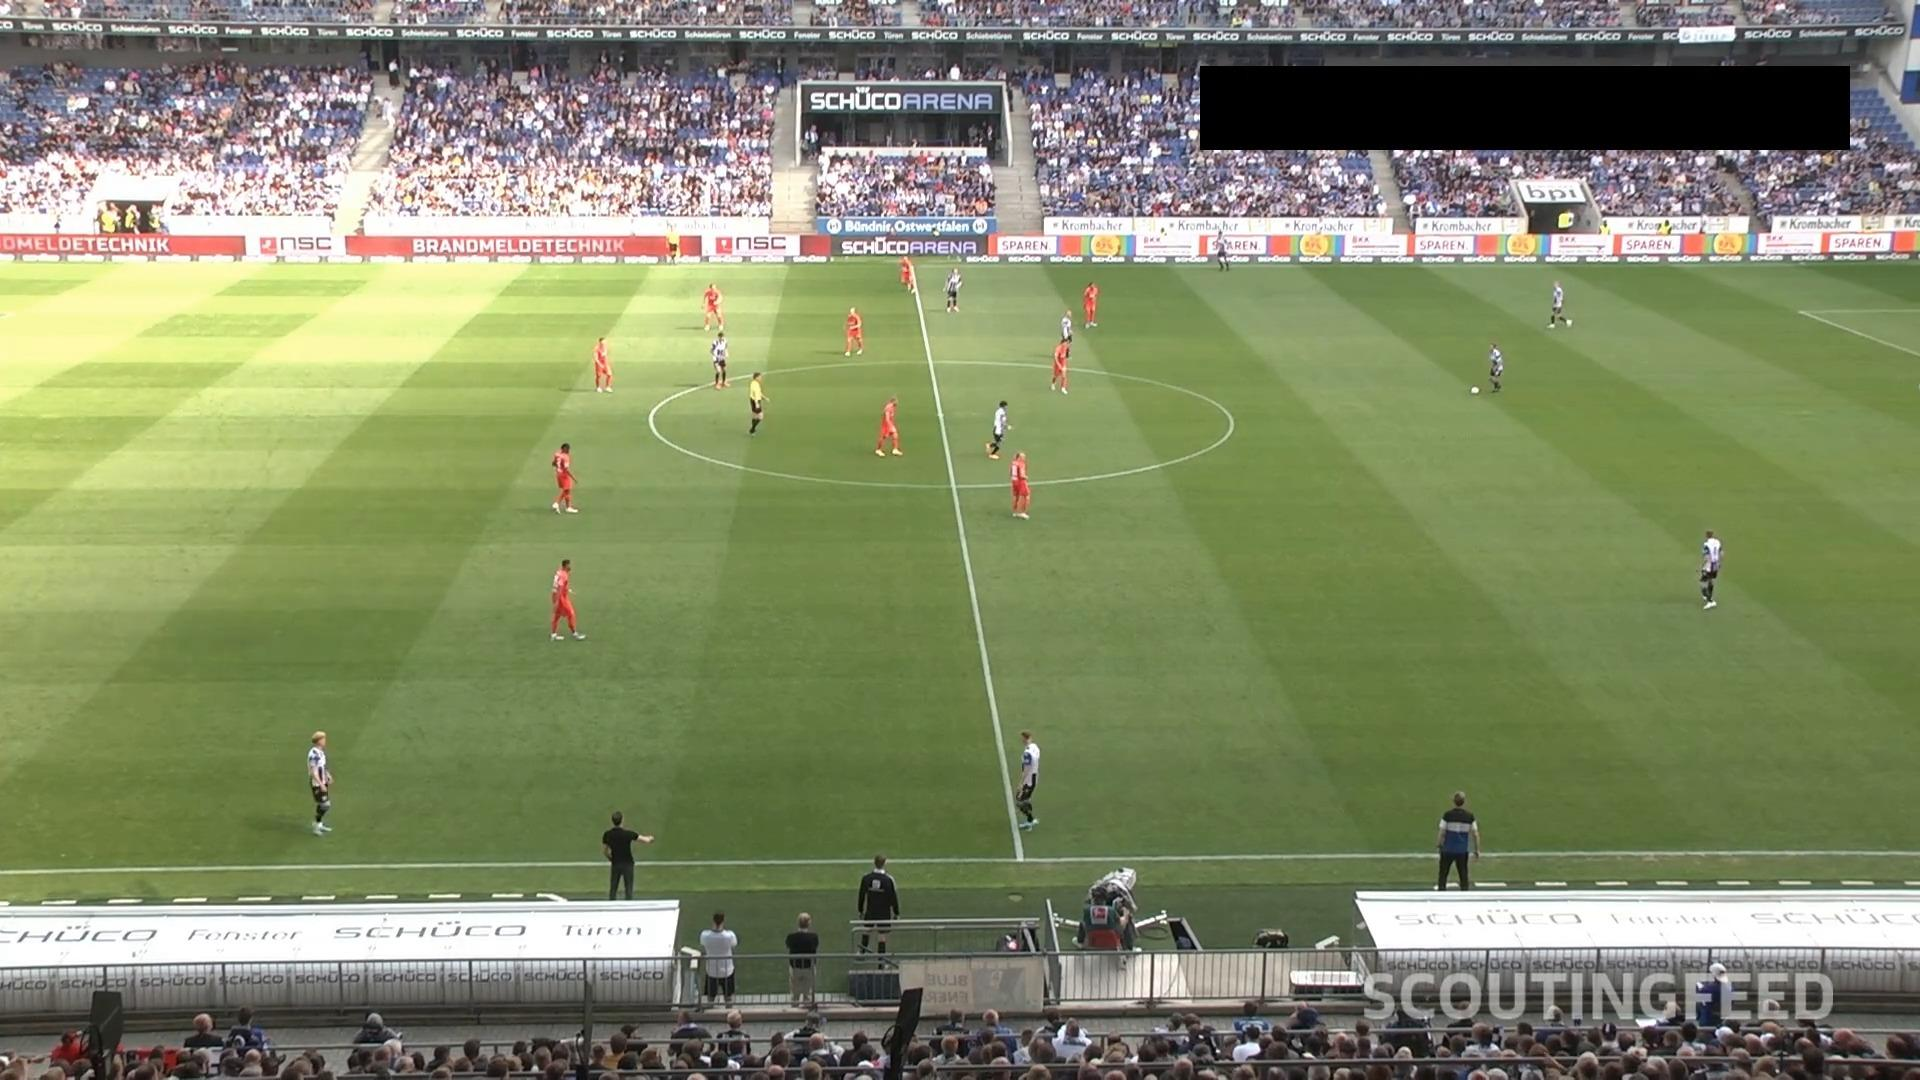ball: (1470, 385, 1481, 396)
